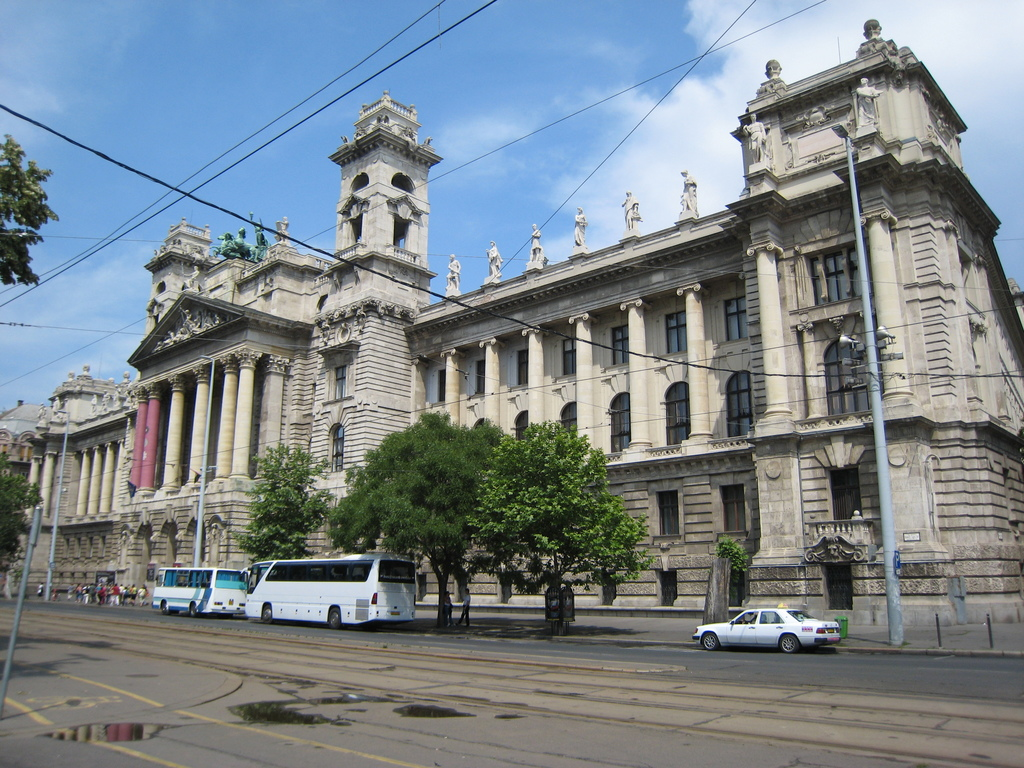mobil: (692, 604, 846, 652)
